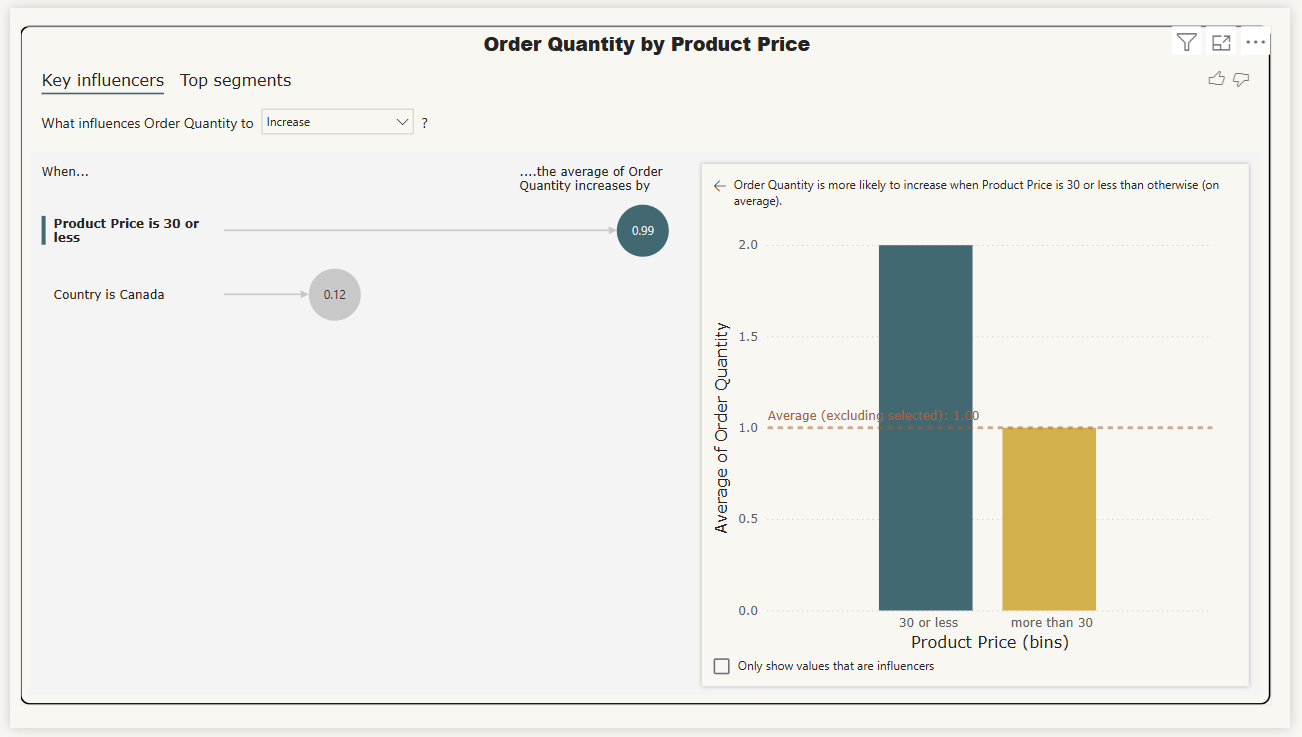

Layout of this report page (visuals, bound fields, positions):
{"tool":"powerbi","page":{"name":"KI","canvas":[1280,720],"ordinal":3},"visuals":[{"type":"keyDriversVisual","title":"Order Quantity by Product Price","fields":{"Target":["f-Sales.OrderQuantity"],"ExplainBy":["Sum(d-Products.ProductPrice)","d-Territories.Country"]},"box":[10.5,18,1250.3,679.2],"z":0}]}

Visuals, with their boxes in screenshot pixels (x1, y1, x2, y2), scaled from the page's 1280x720 canvas onto the 1302x737 screenshot:
"Order Quantity by Product Price" keyDriversVisual: BBox(11, 18, 1282, 714)
